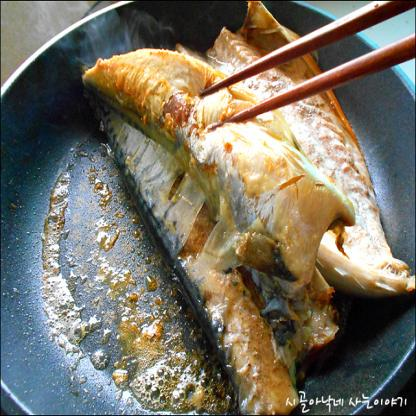Peixe: (96, 0, 378, 416)
